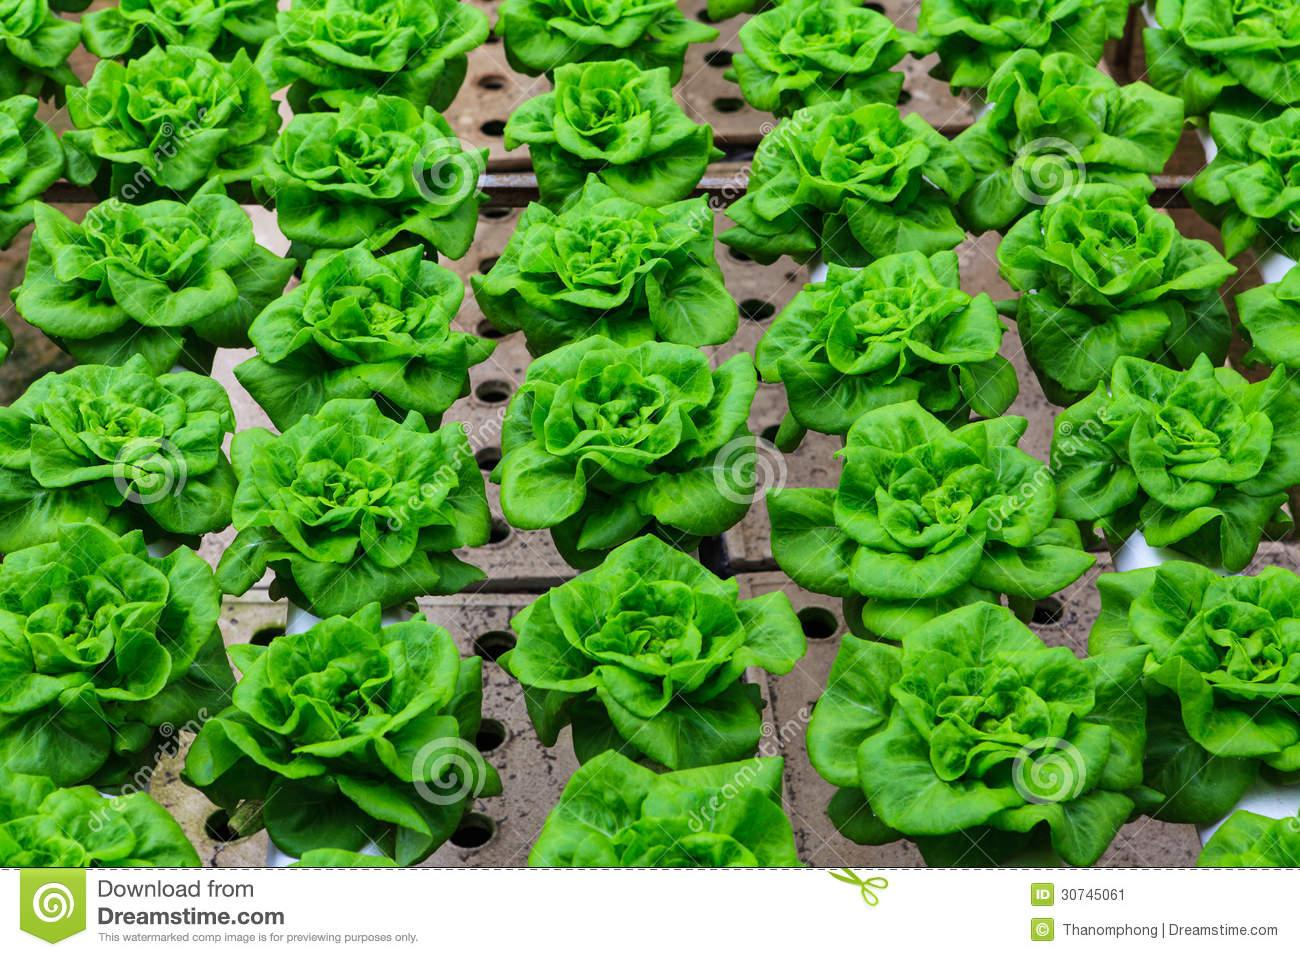cabbage: (829, 618, 1156, 866), (767, 398, 1093, 632), (210, 603, 503, 853), (1061, 346, 1300, 574), (232, 402, 503, 603), (1094, 553, 1300, 817), (7, 533, 234, 770), (511, 338, 748, 551), (2, 361, 240, 561), (21, 194, 291, 361), (774, 246, 1009, 436), (493, 184, 737, 361), (1007, 185, 1220, 385), (736, 103, 983, 264), (243, 244, 470, 416), (966, 66, 1183, 221), (275, 100, 483, 257), (63, 54, 293, 187), (556, 749, 800, 869), (509, 67, 724, 201), (276, 6, 477, 112), (920, 3, 1132, 84), (740, 4, 903, 107), (504, 5, 702, 86), (1201, 101, 1300, 238)
